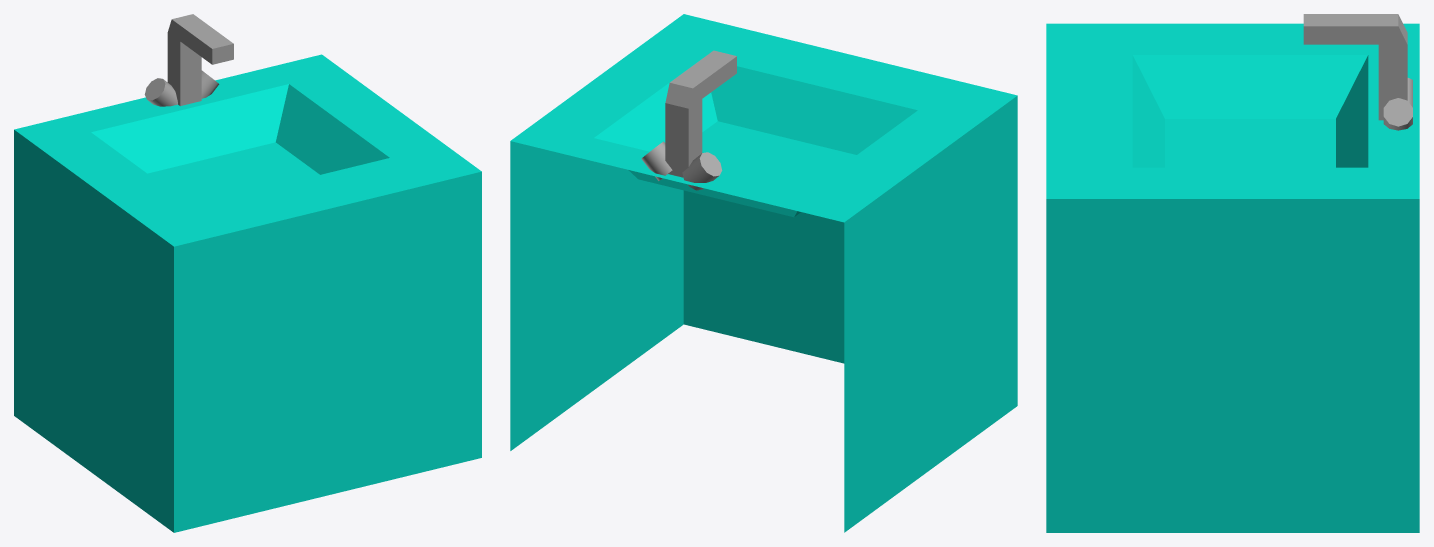
The model's file is kitchen_Sink.fbx.
3 views of the same model, side by side, from view 1: azimuth 30°, elevation 25°; view 2: azimuth 150°, elevation 25°; view 3: azimuth 270°, elevation 25° (orthographic). The views are drawn at different scales.
Visible parts, largest first — view 1: kitchen_Sink; view 2: kitchen_Sink; view 3: kitchen_Sink.
Boxes of the visible parts, left/top/right/bottom form: kitchen_Sink: left=14, top=14, right=481, bottom=532; kitchen_Sink: left=510, top=14, right=1017, bottom=532; kitchen_Sink: left=1046, top=14, right=1419, bottom=532.
Bounding box in the file's own units: 4.71 × 5.37 × 4.24.
